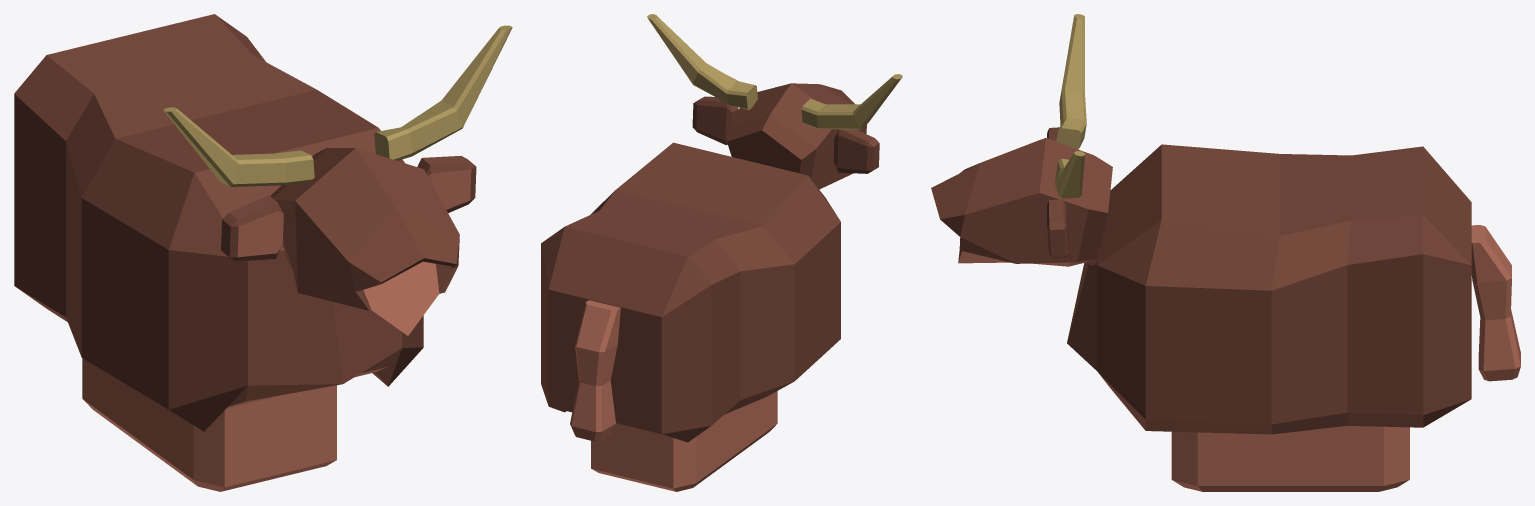
File: Yak.fbx
3 renders of one model, left to right at view 1: azimuth 30°, elevation 25°; view 2: azimuth 150°, elevation 25°; view 3: azimuth 270°, elevation 25°, orthographic. The views are drawn at different scales.
Visible parts, largest first — view 1: Yak; view 2: Yak; view 3: Yak.
Boxes of the visible parts, bbox=[...] form: Yak: bbox=[14, 14, 512, 491]; Yak: bbox=[541, 14, 902, 491]; Yak: bbox=[931, 14, 1520, 491].
Bounding box in the file's own units: 316 × 398 × 556.
